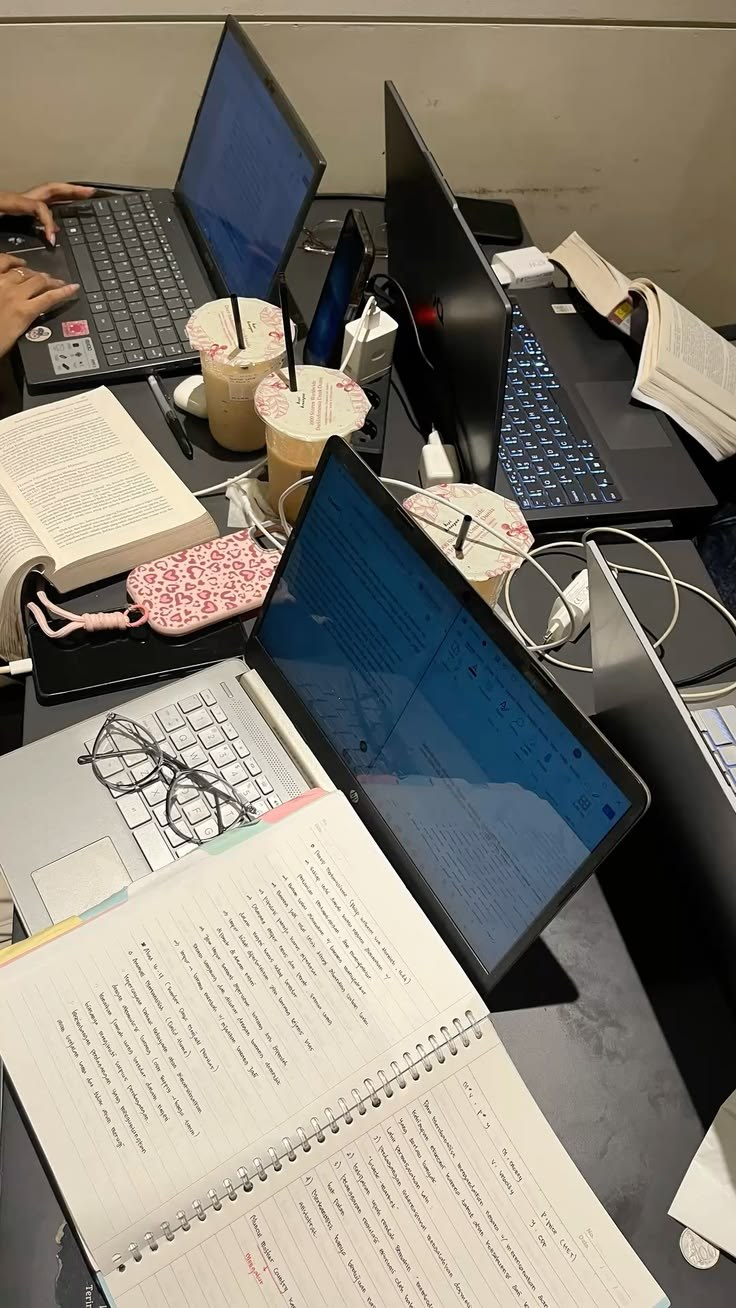cell phone: (34, 592, 248, 704), (301, 208, 376, 368)
laptop: (1, 433, 652, 998), (382, 79, 719, 533), (5, 14, 327, 393), (587, 547, 736, 939)
